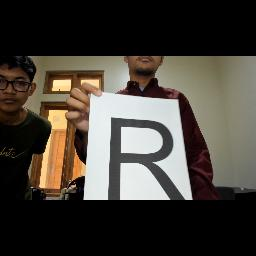r: (103, 108, 193, 200)
